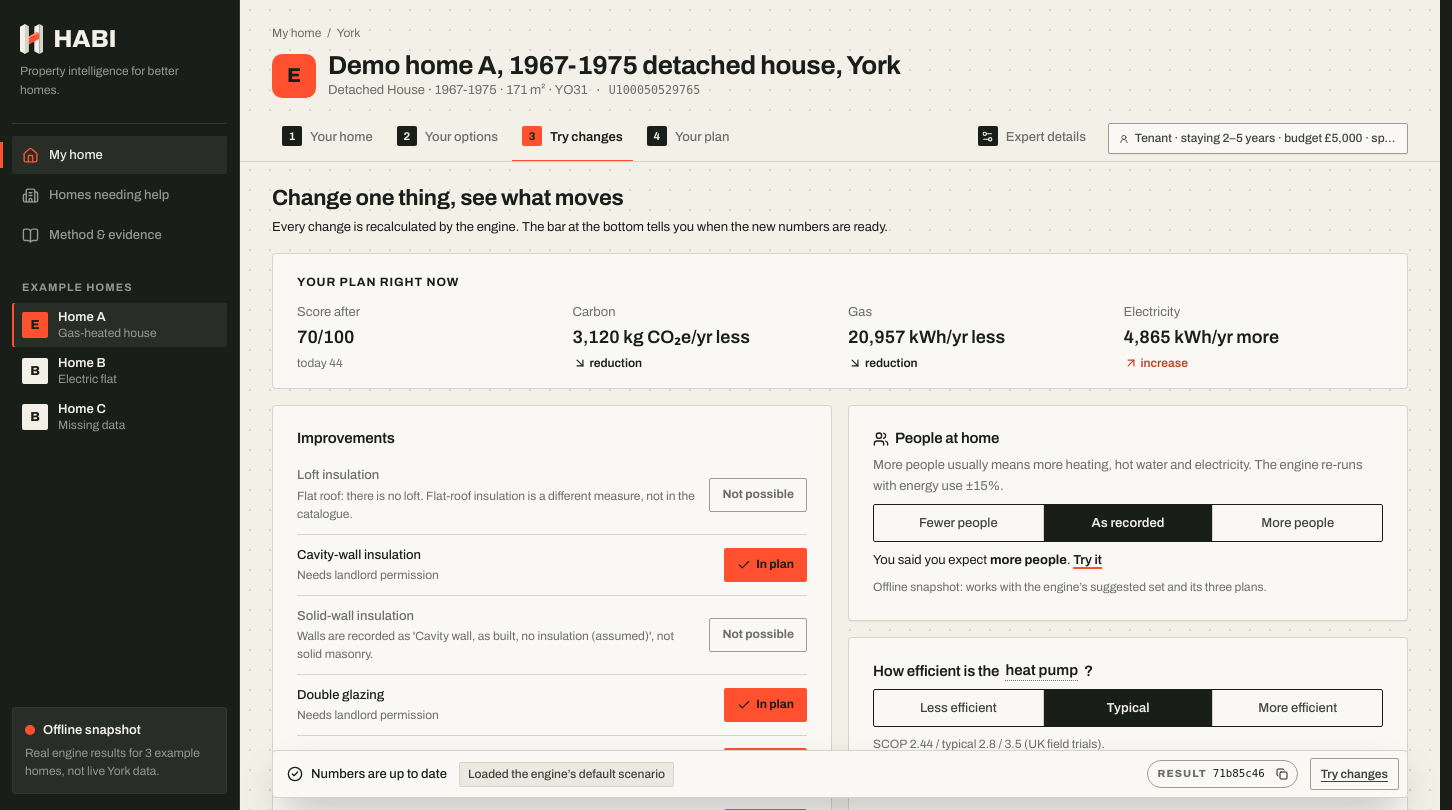
Scenario: step 3: try changes › “more people at home” is recalculated by the engine (baseline_scale 1.15)
This screenshot has width=1452, height=810.
Expected: the element named "Steps" is shown, [272,113,1096,161]
Step 1. Click the button "More people" → (1298, 523), box [1213,505,1382,541]
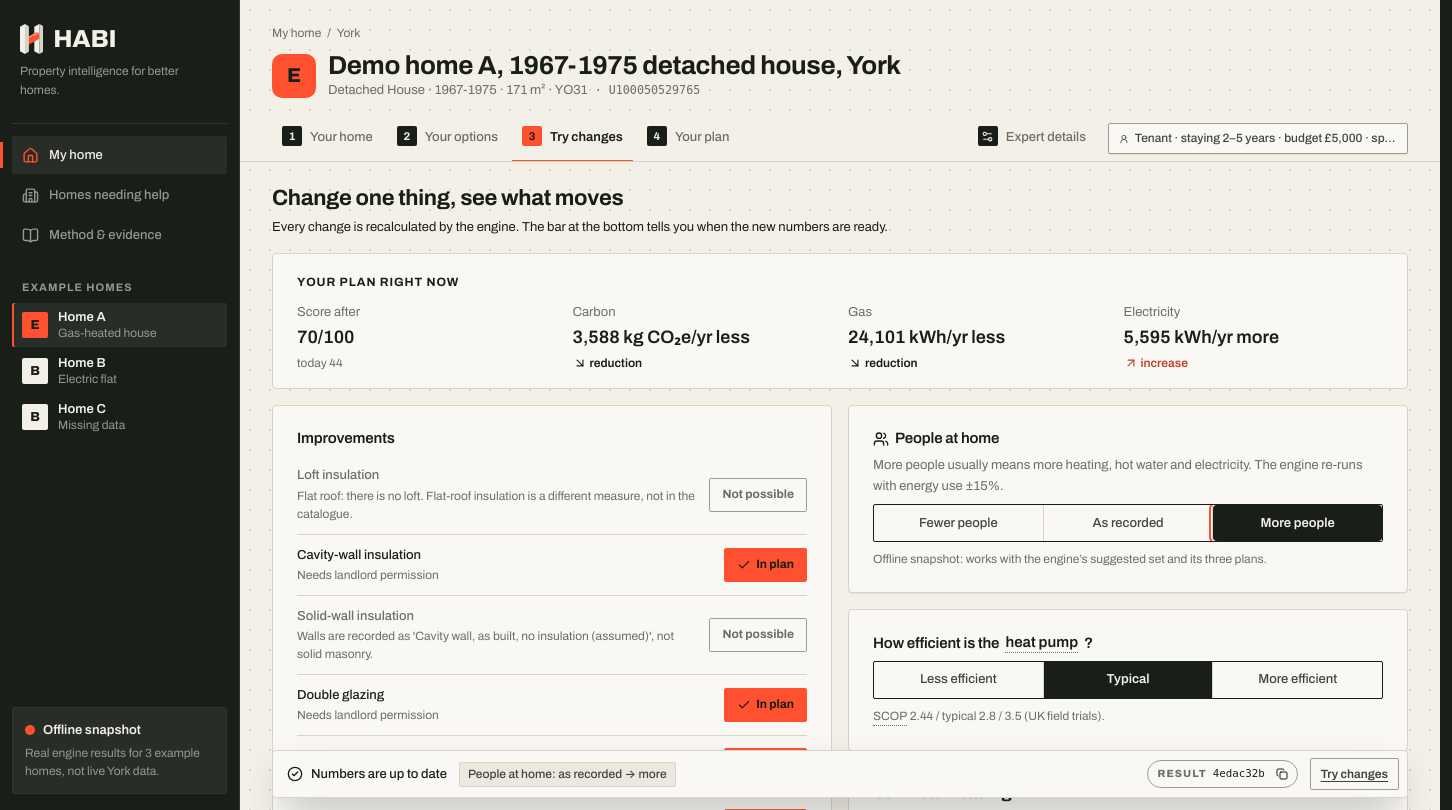
Expected: the text "4edac32b" is shown, [1213,766,1265,782]
